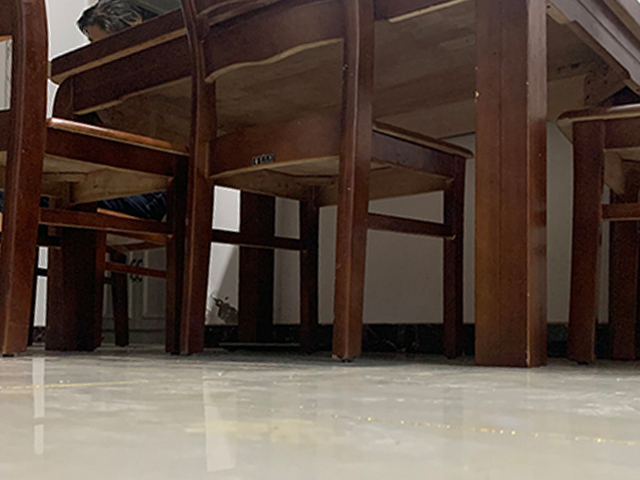stool: (177, 1, 474, 364), (1, 1, 188, 358)
table: (47, 1, 640, 368)
